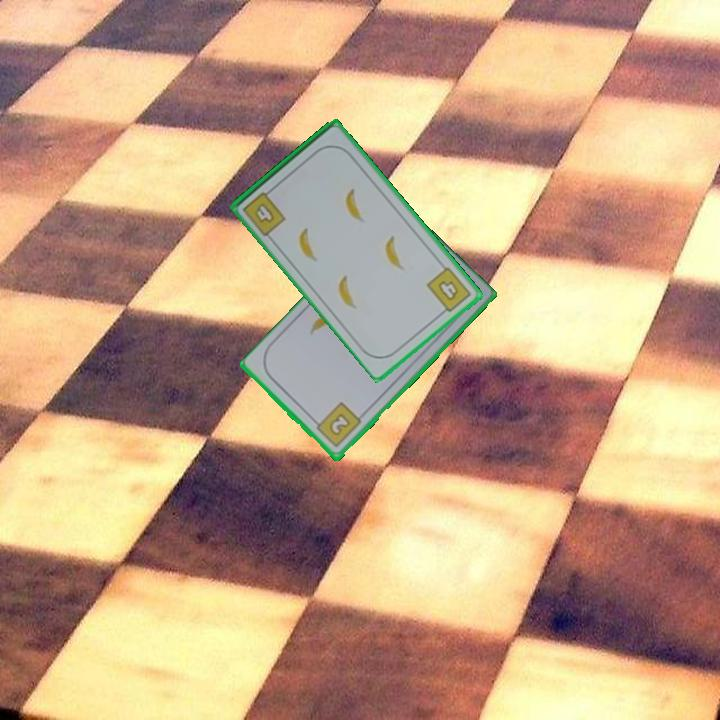2b: (310, 399, 364, 451)
4b: (423, 263, 474, 318), (239, 184, 289, 239)
